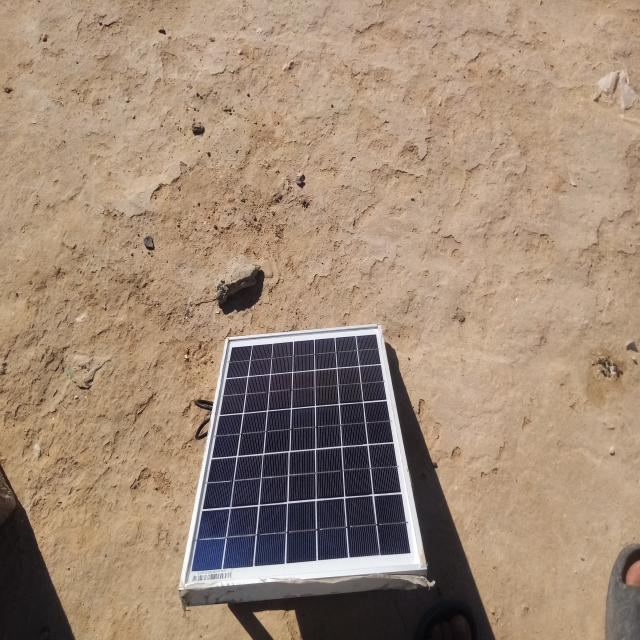no faulty: (185, 328, 425, 593)
